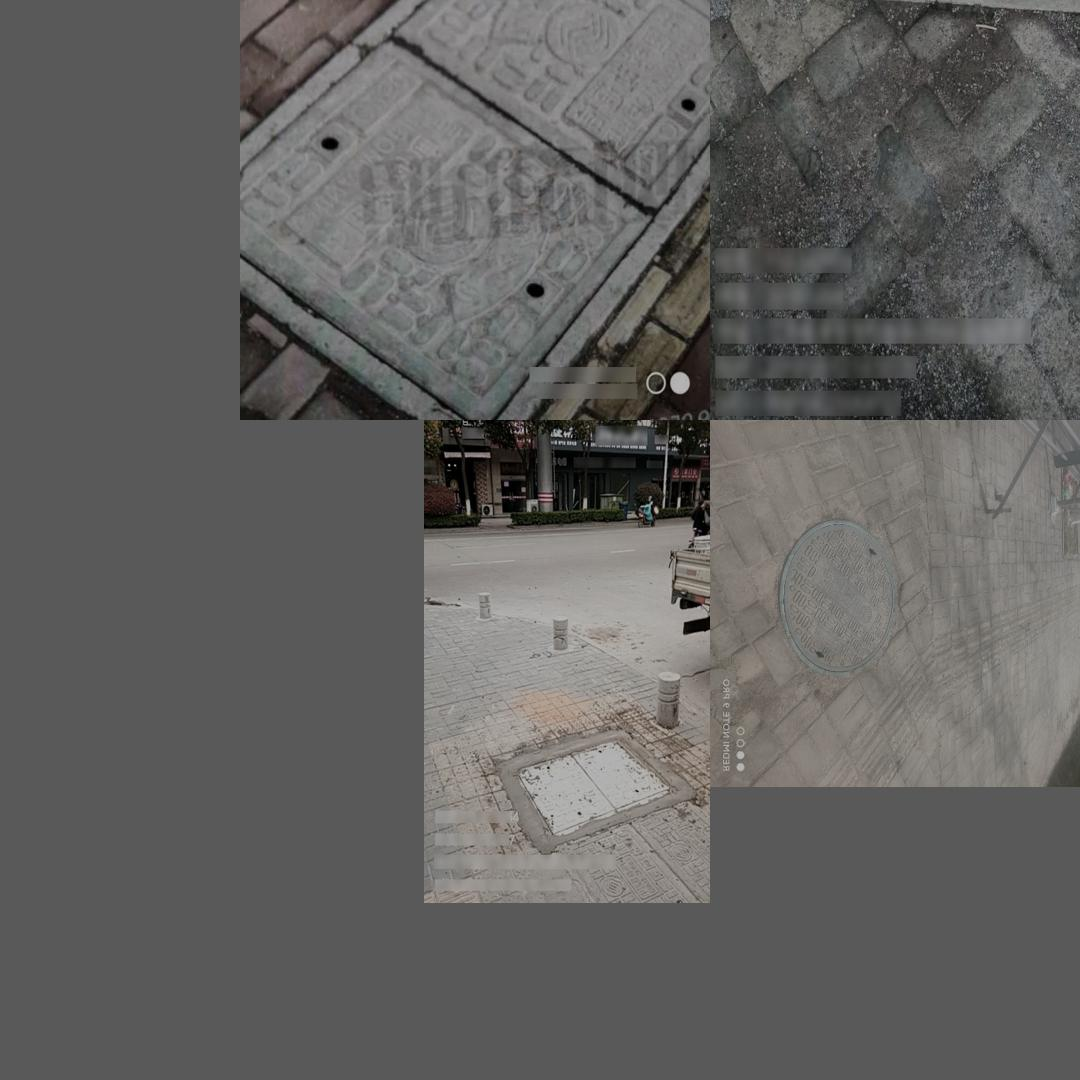good: (240, 0, 708, 420), (777, 519, 896, 675), (503, 736, 677, 834), (754, 0, 1080, 18)
